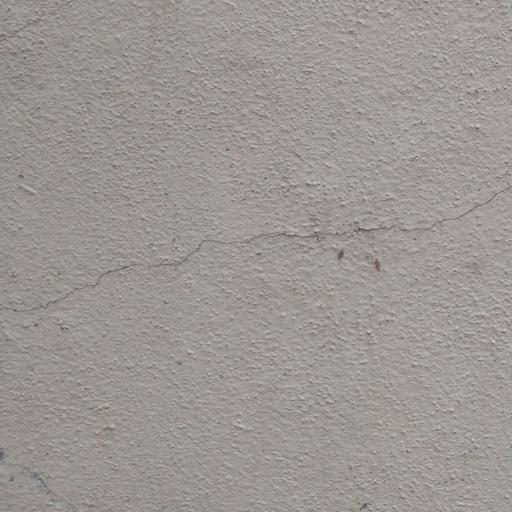minor_crack: (0, 169, 512, 325)
